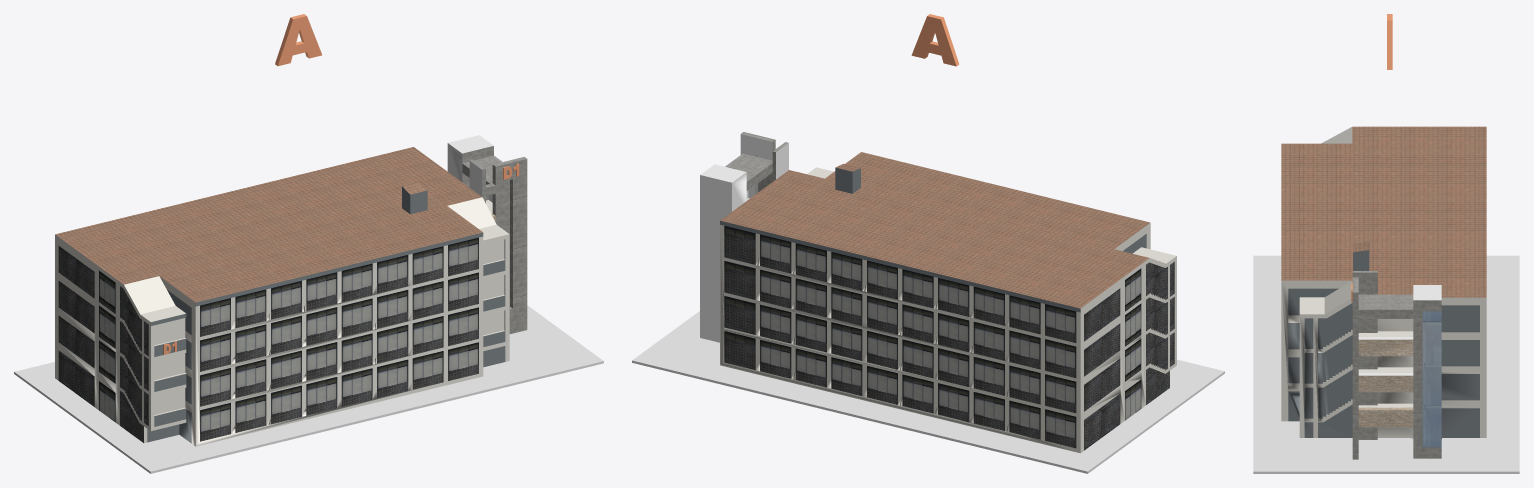
3 views of the same model, side by side, from view 1: azimuth 30°, elevation 25°; view 2: azimuth 150°, elevation 25°; view 3: azimuth 270°, elevation 25° (orthographic). The views are drawn at different scales.
Visible parts, largest first — view 1: Group1, Group2, Group4, A1, Group3; view 2: Group1, Group2, Group4, A1, Group3; view 3: Group1, Group2, Group4, Group3, A1.
Boxes of the visible parts, box(x1,y1,x2,y2) form: Group1: box(55, 147, 509, 446); Group2: box(14, 305, 603, 473); Group4: box(447, 135, 527, 333); A1: box(275, 14, 321, 66); Group3: box(402, 182, 427, 214); Group1: box(720, 152, 1176, 453); Group2: box(632, 311, 1224, 473); Group4: box(700, 132, 788, 342); A1: box(911, 14, 959, 66); Group3: box(835, 164, 860, 193); Group1: box(1281, 126, 1486, 437); Group2: box(1253, 255, 1519, 473); Group4: box(1352, 271, 1441, 459); Group3: box(1353, 242, 1369, 270); A1: box(1387, 14, 1392, 69).
Bounding box in the file's own units: 81.34 × 60.52 × 42.42.
12 materials, 6 textured.
